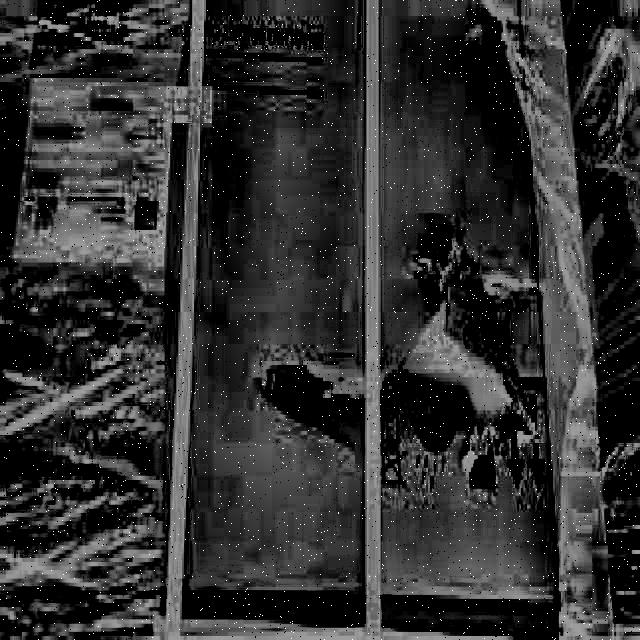box: (1, 1, 625, 640)
hole: (259, 255, 535, 471)
